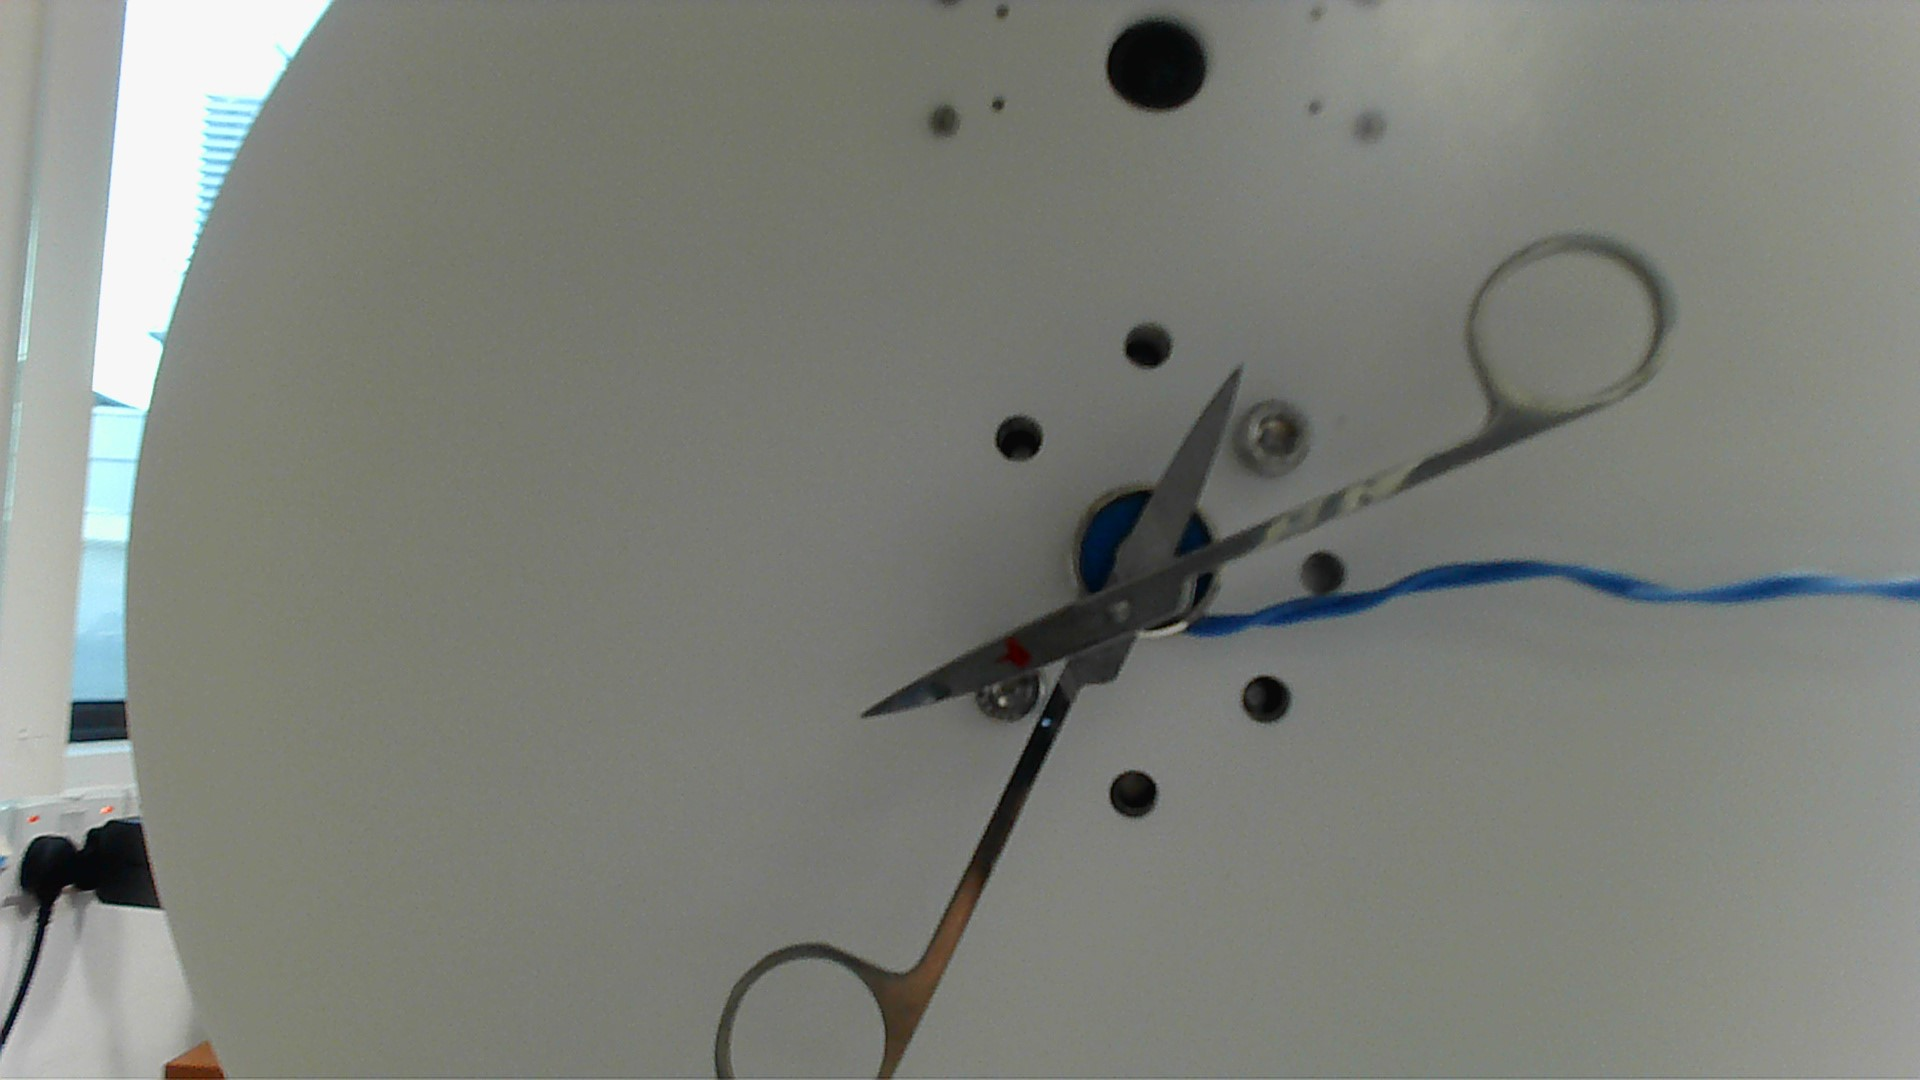Stain: (1000, 633, 1042, 673)
